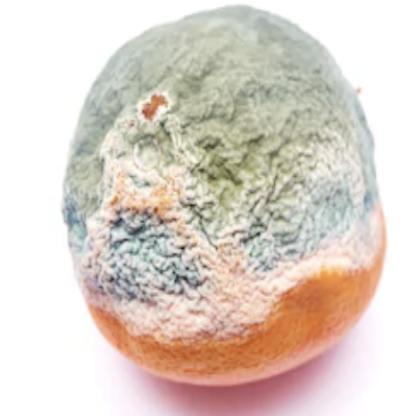rotten: (64, 8, 387, 387)
